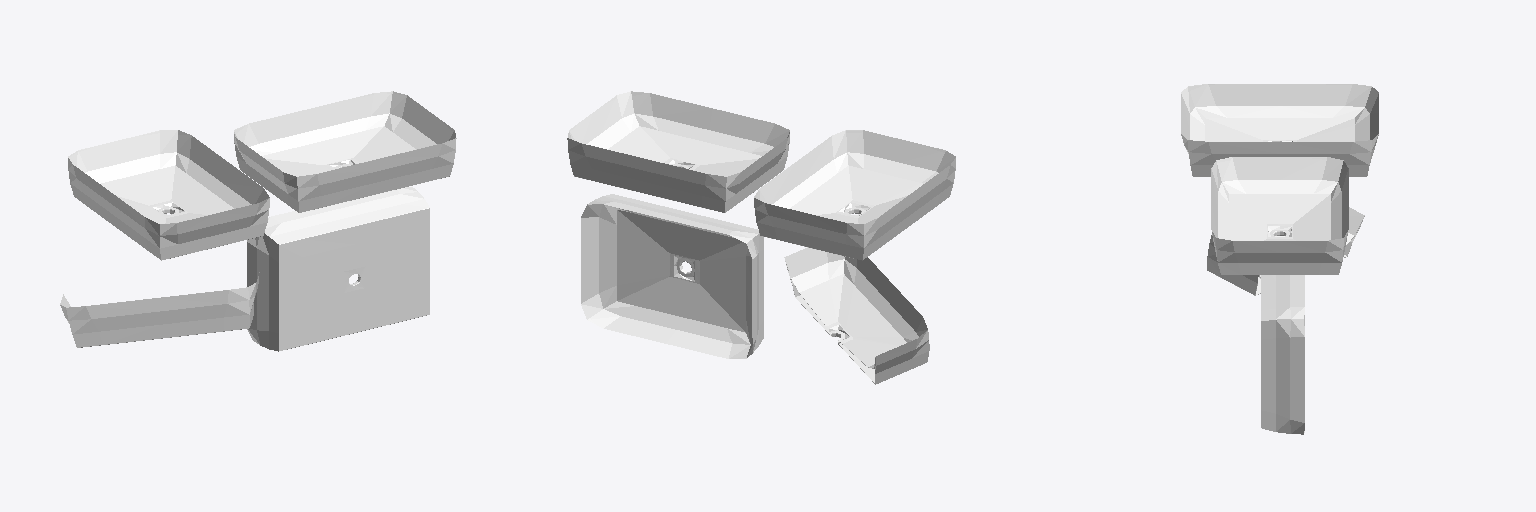
Rendered from 869164_lavabo.obj.
The picture shows the model from 3 angles: view 1: azimuth 30°, elevation 25°; view 2: azimuth 150°, elevation 25°; view 3: azimuth 270°, elevation 25°; orthographic projection.
Parts seen in each view (by area): view 1: Box006, Box001, Box005, Box004; view 2: Box006, Box001, Box005, Box004; view 3: Box001, Box005, Box006, Box004.
Part boxes in pixels (x1,y1,x2,y2): Box006: (247,187,429,351); Box001: (234,91,456,212); Box005: (68,130,269,260); Box004: (60,272,259,347); Box006: (581,194,763,358); Box001: (567,91,789,212); Box005: (754,130,955,260); Box004: (784,247,929,384); Box001: (1211,157,1348,274); Box005: (1181,84,1378,176); Box006: (1261,275,1304,434); Box004: (1207,207,1364,295).
Bounding box in the file's own units: 9.3 × 5.11 × 4.57.